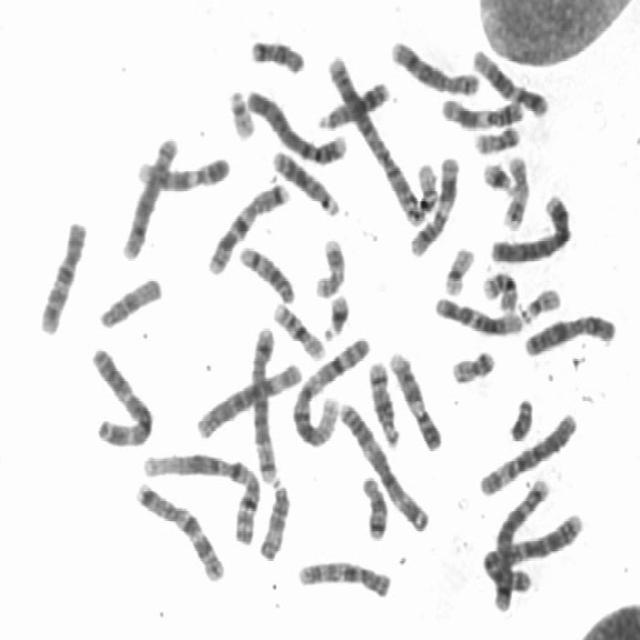A1: (134, 444, 262, 546), (287, 328, 373, 448)
A2: (322, 46, 426, 224), (481, 504, 586, 610)
A3: (332, 394, 433, 534), (85, 338, 156, 449)
B4: (240, 80, 348, 167), (484, 184, 574, 266)
B5: (486, 468, 552, 612), (244, 318, 282, 484)
C10: (32, 211, 90, 337), (291, 551, 394, 600)
C11: (403, 148, 462, 258), (435, 89, 526, 131)
C12: (466, 39, 551, 119), (428, 288, 524, 338)
C6: (473, 404, 580, 498), (190, 353, 304, 441)
C7: (129, 474, 228, 584), (200, 173, 292, 277)
C8: (115, 129, 180, 261), (384, 31, 482, 97)
C9: (383, 343, 444, 452), (131, 148, 233, 192)
D13: (266, 142, 341, 218), (313, 73, 391, 131)
D14: (232, 237, 297, 306), (362, 352, 402, 448)
D15: (93, 268, 164, 330), (252, 475, 292, 561)
E16: (267, 293, 328, 361), (477, 262, 520, 314)
E17: (496, 147, 533, 230), (308, 230, 346, 300)
E18: (244, 30, 308, 76), (356, 468, 390, 541)
F19: (438, 239, 477, 297), (410, 154, 440, 218)
F20: (445, 341, 497, 385), (468, 116, 523, 154)
G21: (317, 286, 352, 341), (476, 153, 516, 194)
G22: (514, 279, 564, 324), (221, 81, 257, 140)
X: (518, 304, 619, 358)
Y: (503, 389, 536, 442)
